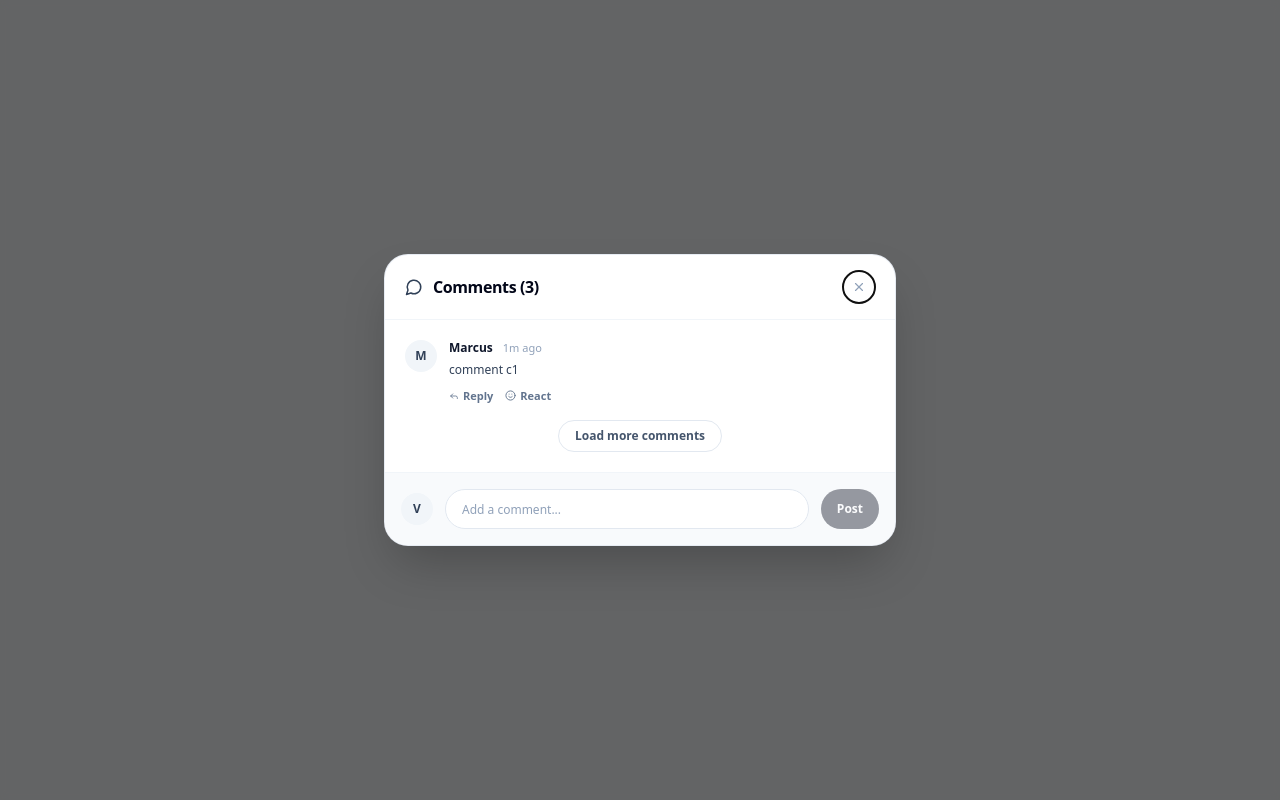
Test case: PostCommentsModal › pages top-level comments with Load more
Click the button "Load more comments" at [640, 436], box 558,420 -> 722,452
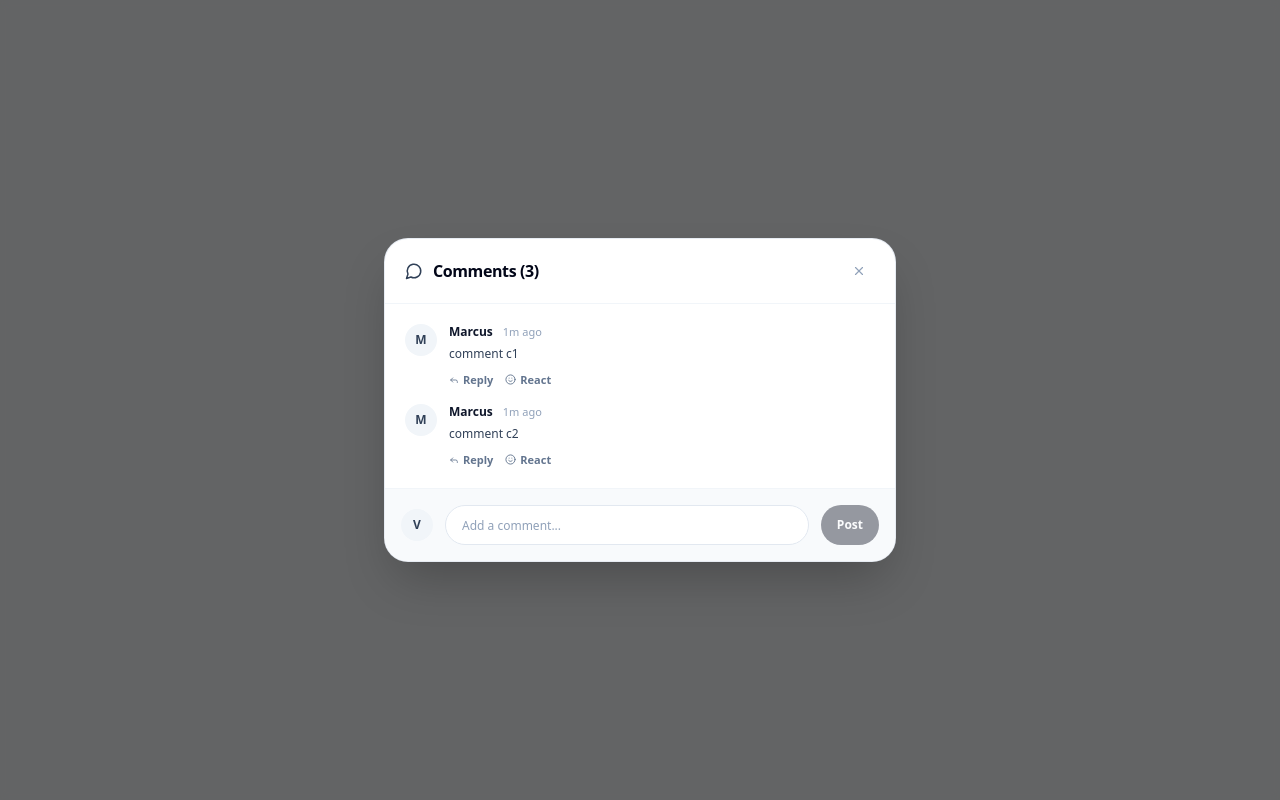
Expected: the text "comment c2" is shown, 449,425 -> 519,442
